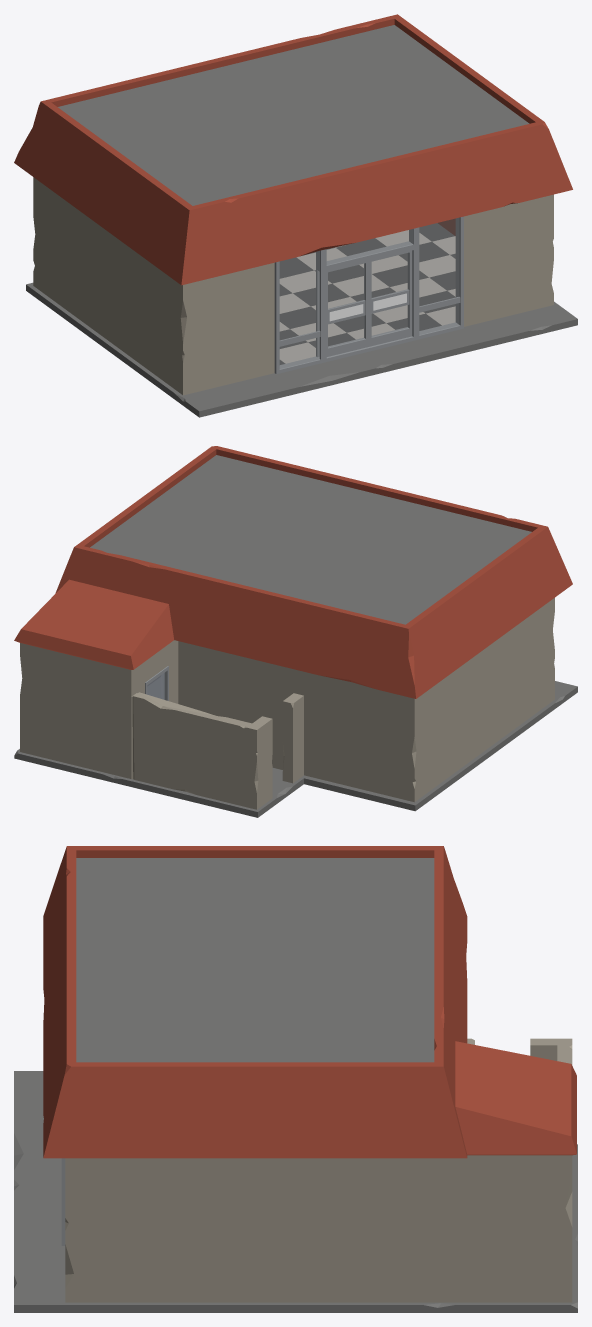
The model's file is SM_Bld_Shop_01.fbx.
3 views of the same model, one above another, from view 1: azimuth 30°, elevation 25°; view 2: azimuth 150°, elevation 25°; view 3: azimuth 270°, elevation 25° (orthographic). The views are drawn at different scales.
Parts seen in each view (by area): view 1: SM_Bld_Shop_01, SM_Bld_Shop_01_Door_R, SM_Bld_Shop_01_Door_L; view 2: SM_Bld_Shop_01; view 3: SM_Bld_Shop_01.
Part boxes in pixels (x1=…): SM_Bld_Shop_01: x1=14, y1=14, x2=577, y2=417; SM_Bld_Shop_01_Door_R: x1=369, y1=250, x2=412, y2=346; SM_Bld_Shop_01_Door_L: x1=326, y1=261, x2=368, y2=356; SM_Bld_Shop_01: x1=14, y1=446, x2=577, y2=817; SM_Bld_Shop_01: x1=14, y1=846, x2=577, y2=1312.
Bounding box in the file's own units: 1056 × 488 × 1040.
